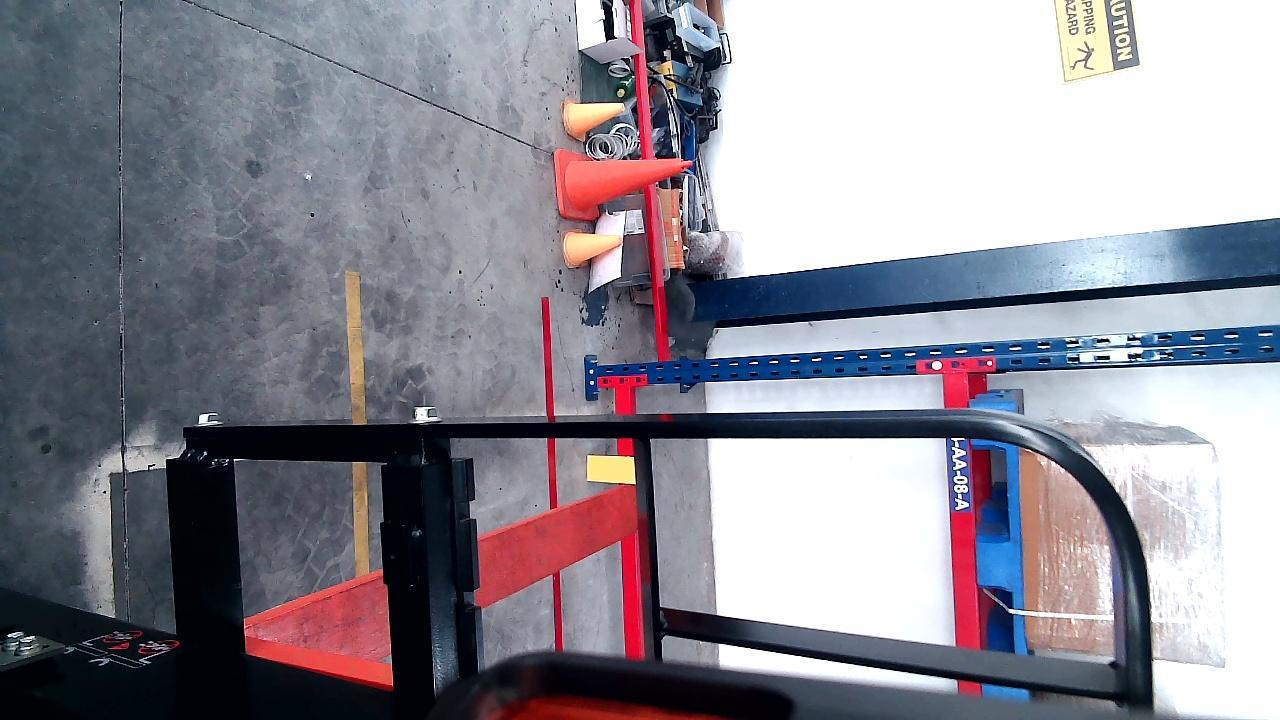red_line: (541, 297, 566, 647)
yellow_line: (341, 271, 369, 582)
